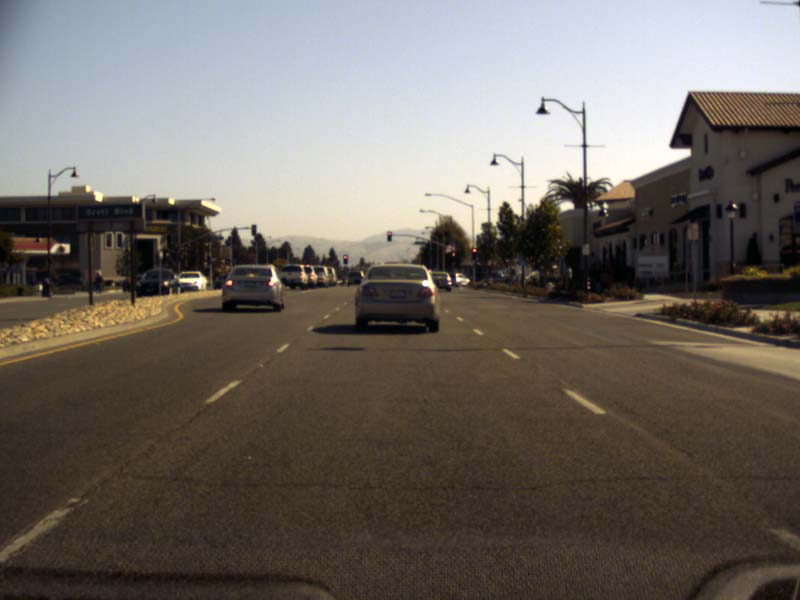Red: (472, 249, 476, 258), (387, 231, 390, 241), (452, 252, 455, 260), (343, 255, 346, 263)
